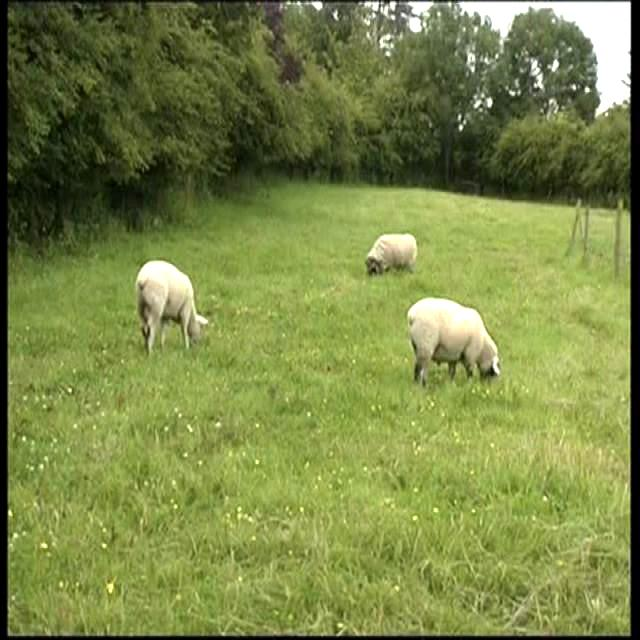sheep: (409, 298, 499, 388), (136, 262, 210, 352)
